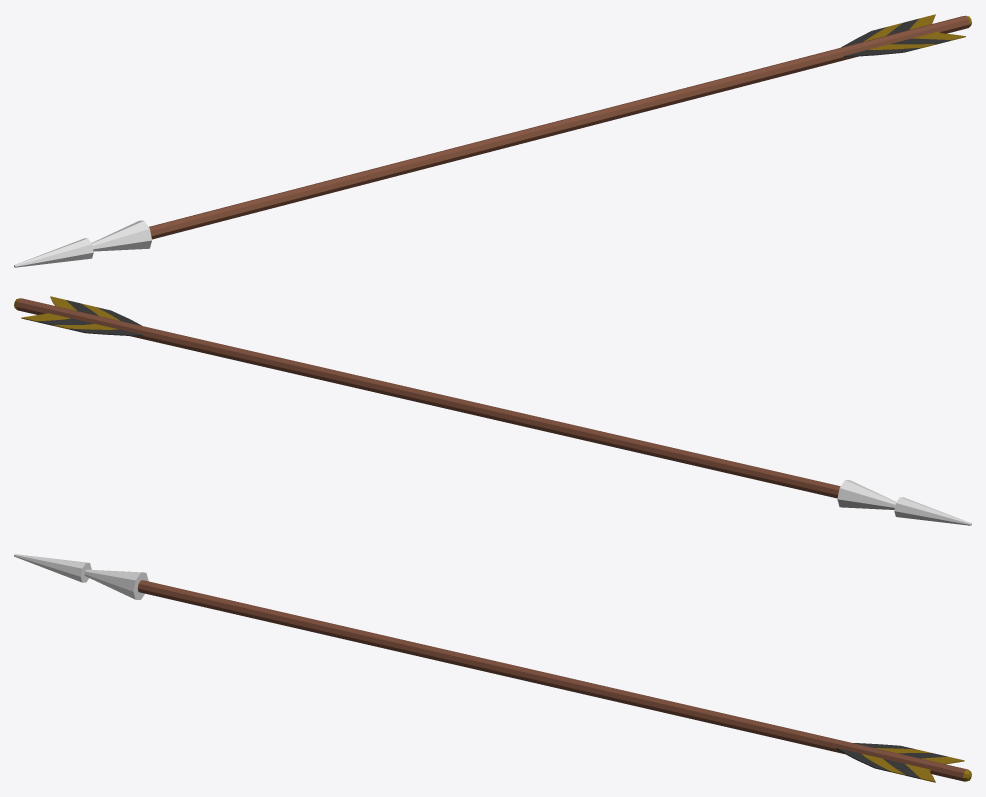
3 renders of one model, top to bottom at view 1: azimuth 30°, elevation 25°; view 2: azimuth 150°, elevation 25°; view 3: azimuth 330°, elevation 25°, orthographic. The views are drawn at different scales.
Parts seen in each view (by area): view 1: 101; view 2: 101; view 3: 101.
Part boxes in pixels (box(x1,y1,x2,y2)): 101: box(14, 14, 971, 267); 101: box(14, 296, 971, 525); 101: box(14, 554, 971, 782).
Size of the model in its own units: 82.52 by 2.29 by 5.15.
